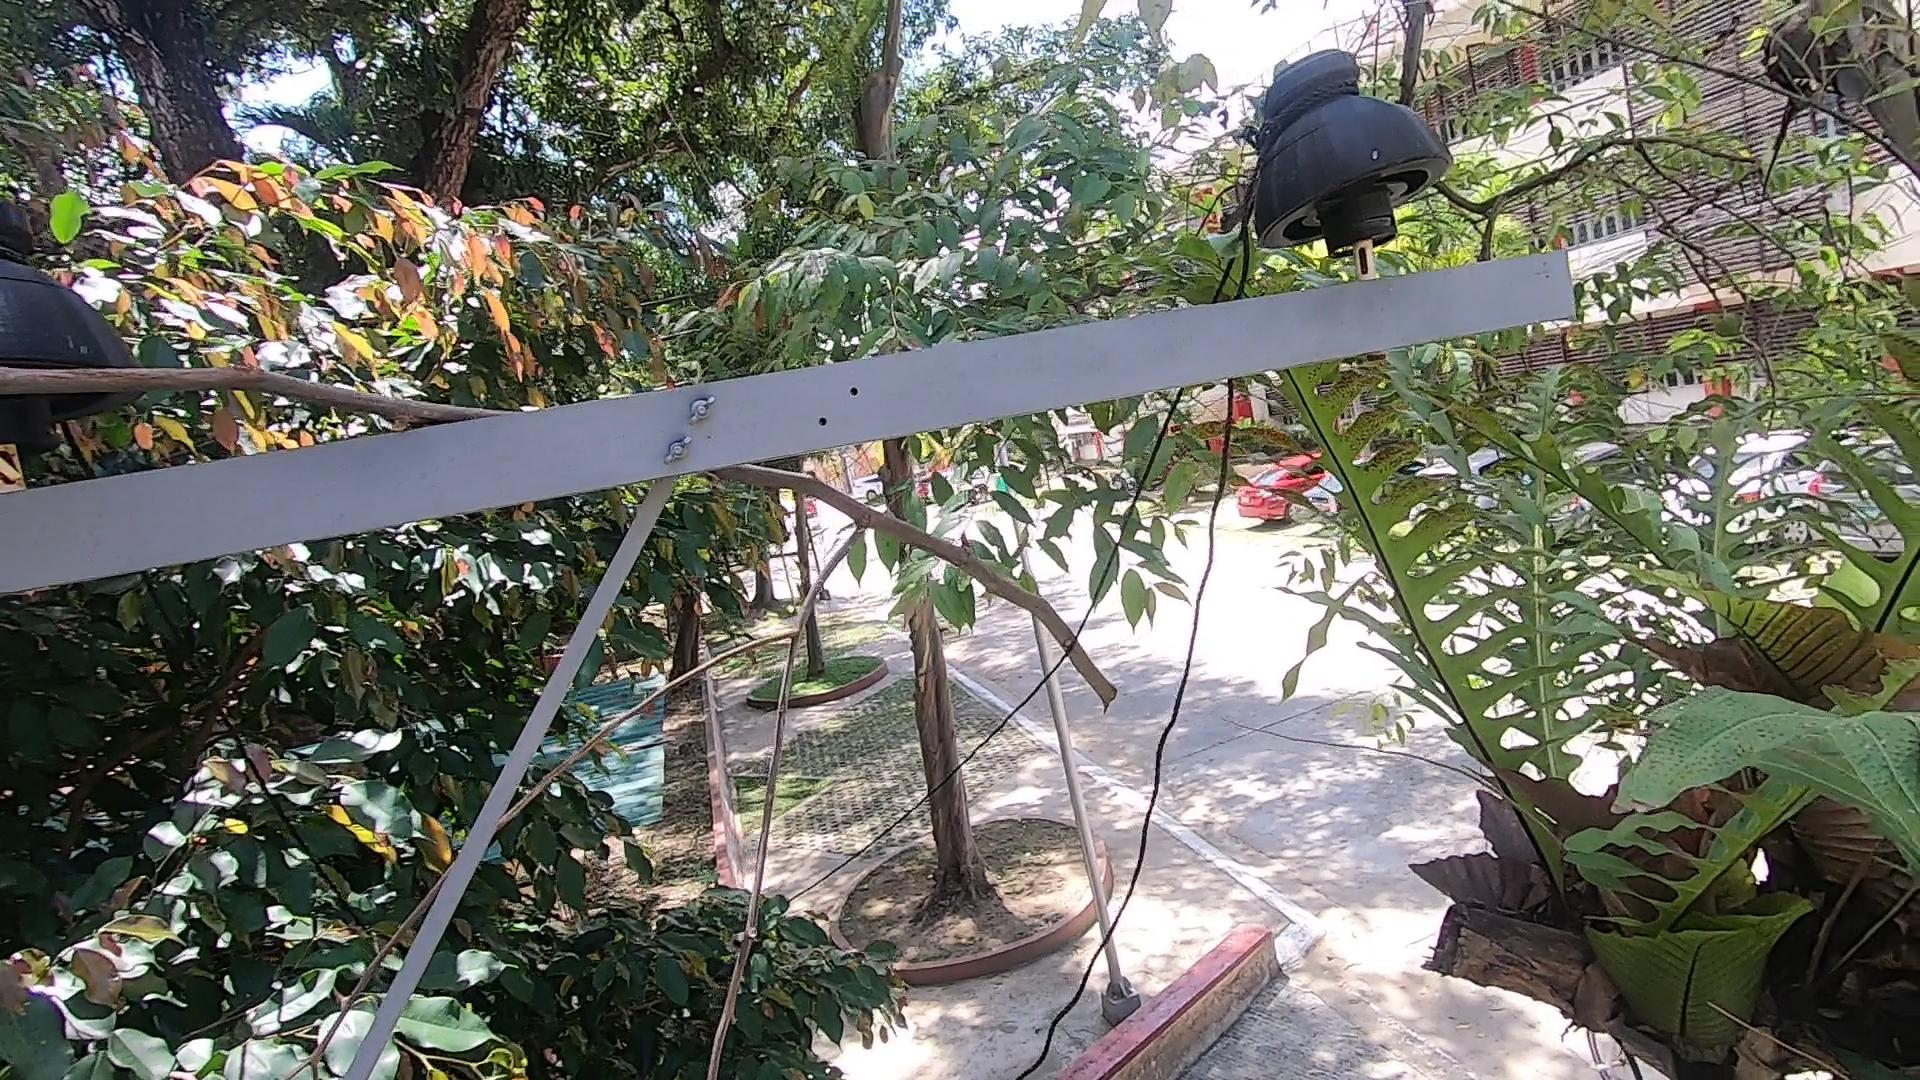tree branch: (485, 454, 1160, 1080), (1, 349, 516, 427), (277, 874, 446, 1065)
